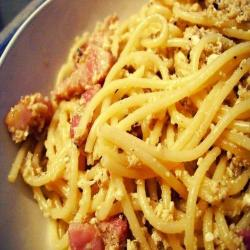carbonara: (48, 5, 249, 249)
